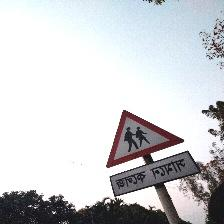College-in-front: (101, 101, 222, 224)
